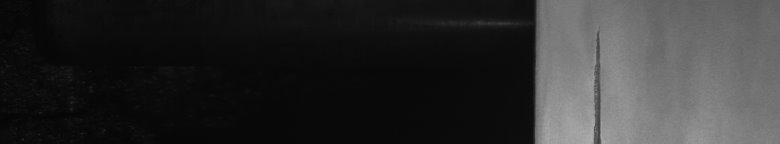hd: (587, 31, 608, 136)
